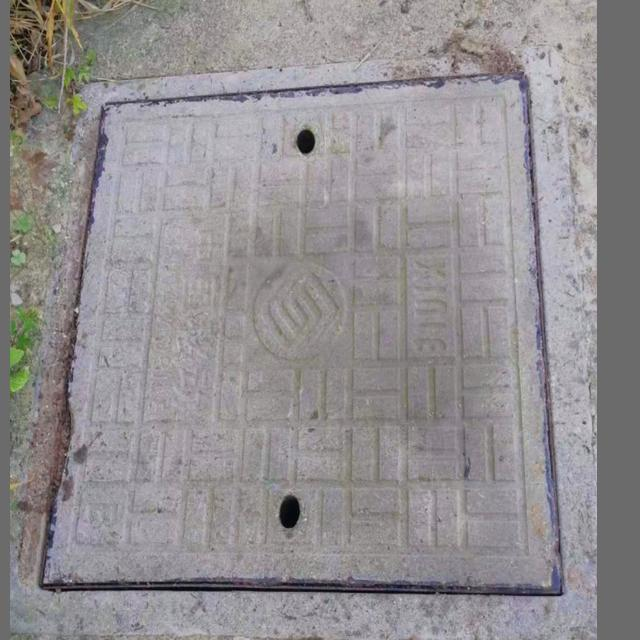good: (13, 55, 597, 640)
